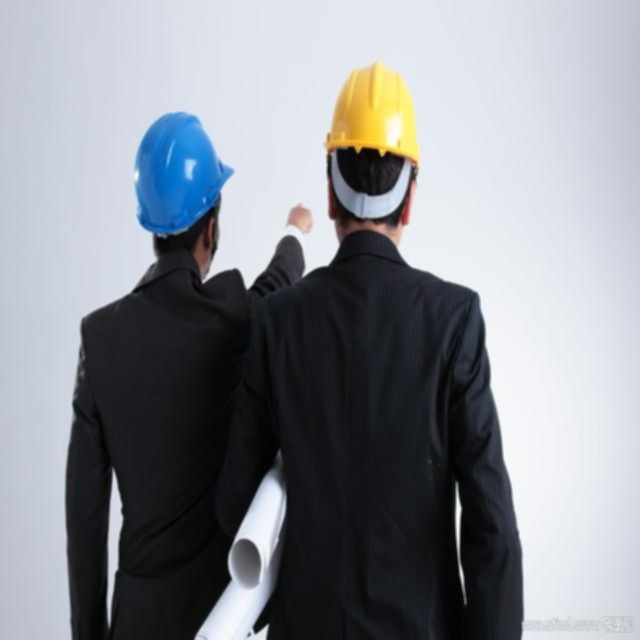Con_Casco: (317, 66, 417, 237)
